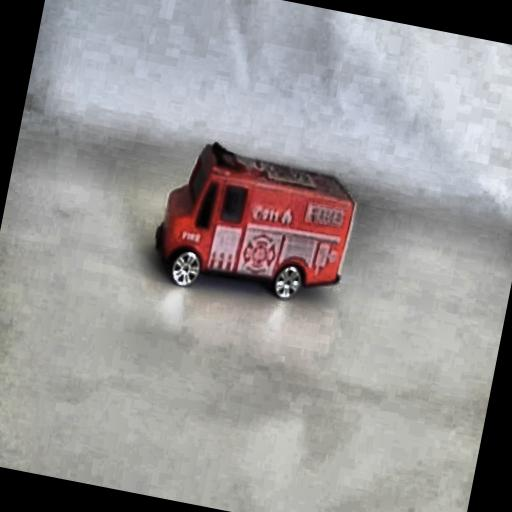fire_truck: (142, 128, 369, 322)
